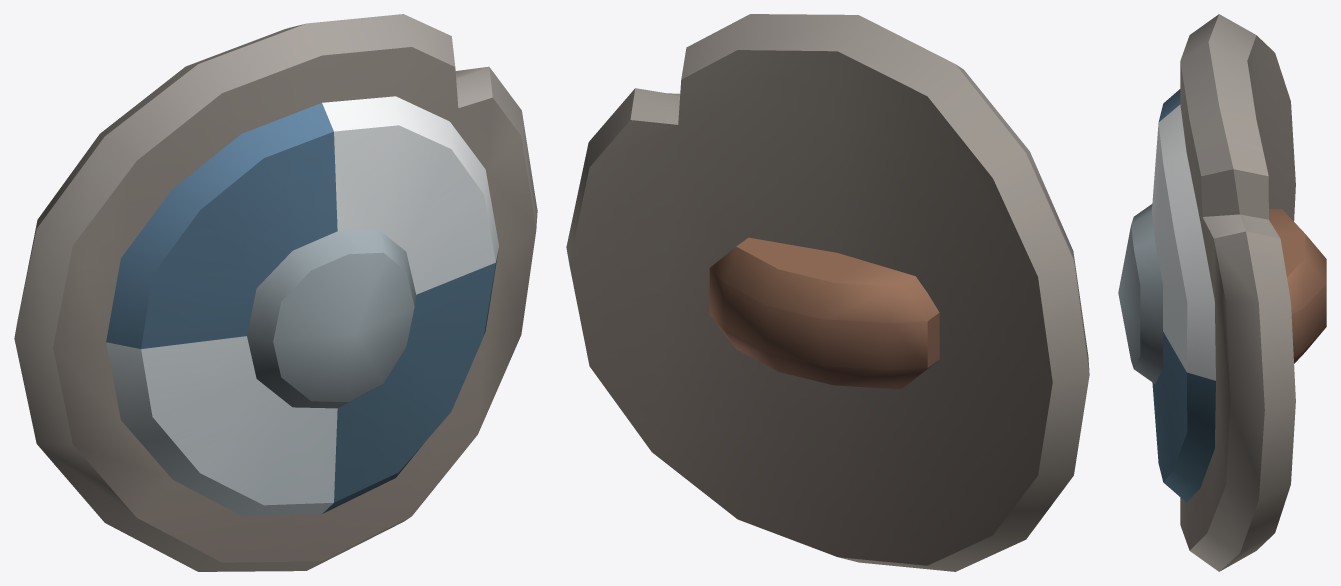
Rendered from shield_round_barbarian.glb.
3 renders of one model, left to right at view 1: azimuth 30°, elevation 25°; view 2: azimuth 150°, elevation 25°; view 3: azimuth 270°, elevation 25°, orthographic. The views are drawn at different scales.
Size of the model in its own units: 0.8826 by 0.8826 by 0.332.
Materials: 1 (1 with a texture image).
